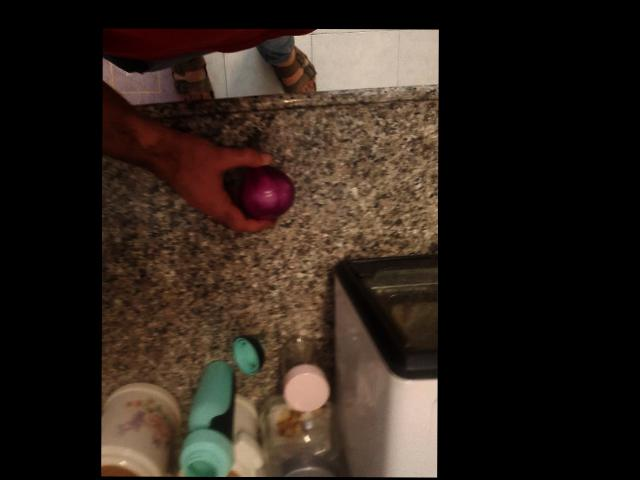onion: (236, 165, 290, 219)
